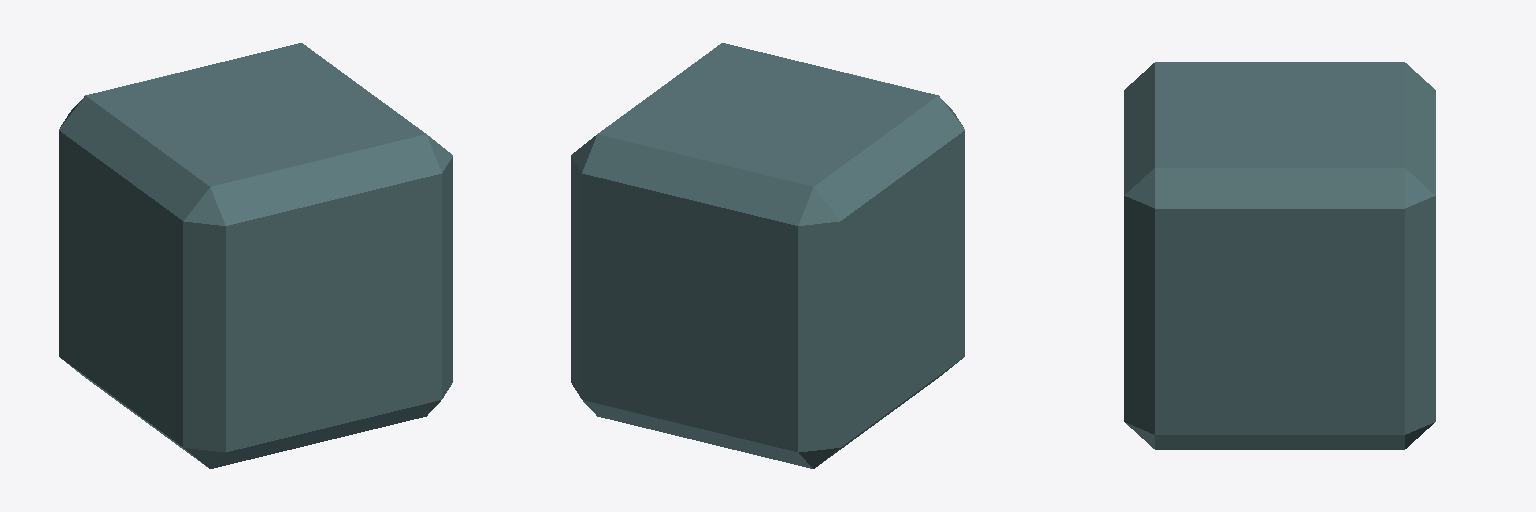
Rendered from block_single.obj.
The picture shows the model from 3 angles: view 1: azimuth 30°, elevation 25°; view 2: azimuth 150°, elevation 25°; view 3: azimuth 270°, elevation 25°; orthographic projection.
Parts seen in each view (by area): view 1: pasted__pasted__pasted__pasted__pCube1 pasted__pasted__pasted__g; view 2: pasted__pasted__pasted__pasted__pCube1 pasted__pasted__pasted__g; view 3: pasted__pasted__pasted__pasted__pCube1 pasted__pasted__pasted__g.
Boxes of the visible parts, x1,y1,x2,y2 form: pasted__pasted__pasted__pasted__pCube1 pasted__pasted__pasted__g: [59, 43, 452, 468]; pasted__pasted__pasted__pasted__pCube1 pasted__pasted__pasted__g: [571, 43, 964, 468]; pasted__pasted__pasted__pasted__pCube1 pasted__pasted__pasted__g: [1124, 62, 1435, 449].
Bounding box in the file's own units: 1 × 1 × 1.